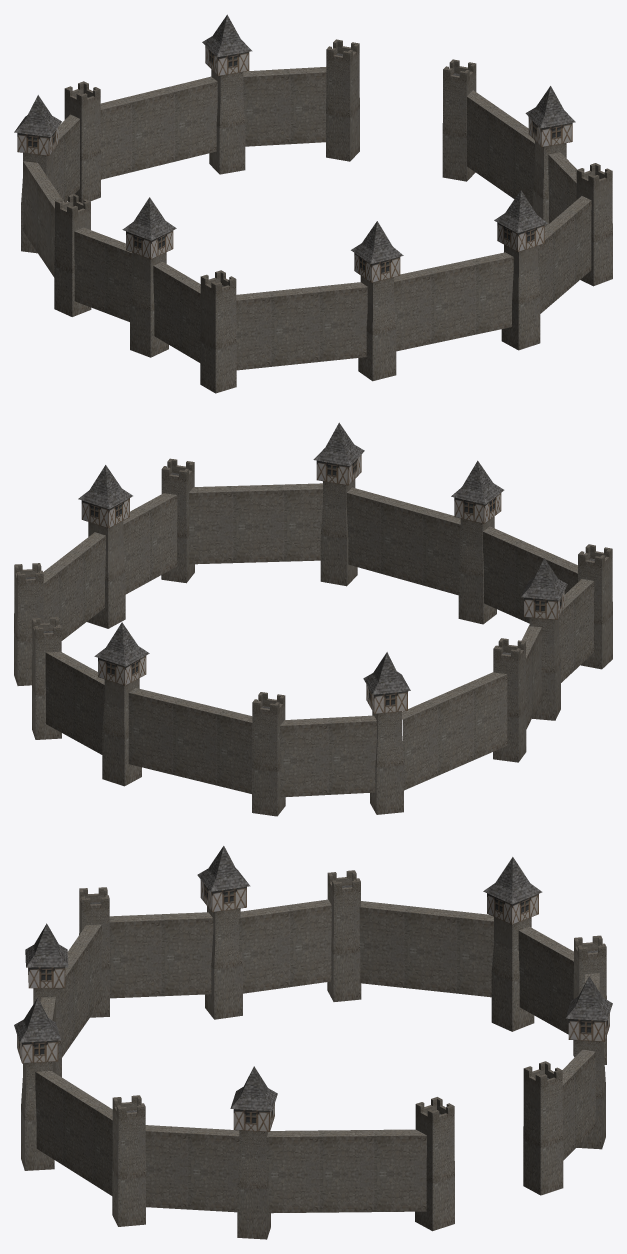
File: citywalls_stone.glb
3 renders of one model, top to bottom at view 1: azimuth 30°, elevation 25°; view 2: azimuth 150°, elevation 25°; view 3: azimuth 270°, elevation 25°, orthographic. The views are drawn at different scales.
Parts seen in each view (by area): view 1: CityWallBig; view 2: CityWallBig; view 3: CityWallBig.
Part boxes in pixels (bbox=[...]): CityWallBig: bbox=[14, 14, 612, 393]; CityWallBig: bbox=[14, 422, 612, 816]; CityWallBig: bbox=[14, 846, 612, 1239].
Size of the model in its own units: 4.82 by 1.5 by 4.89.
Materials: 1 (1 with a texture image).
